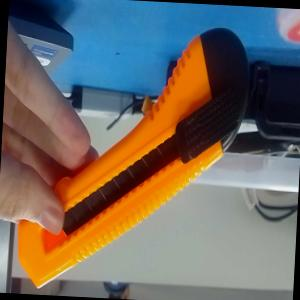estilete: (13, 15, 252, 298)
